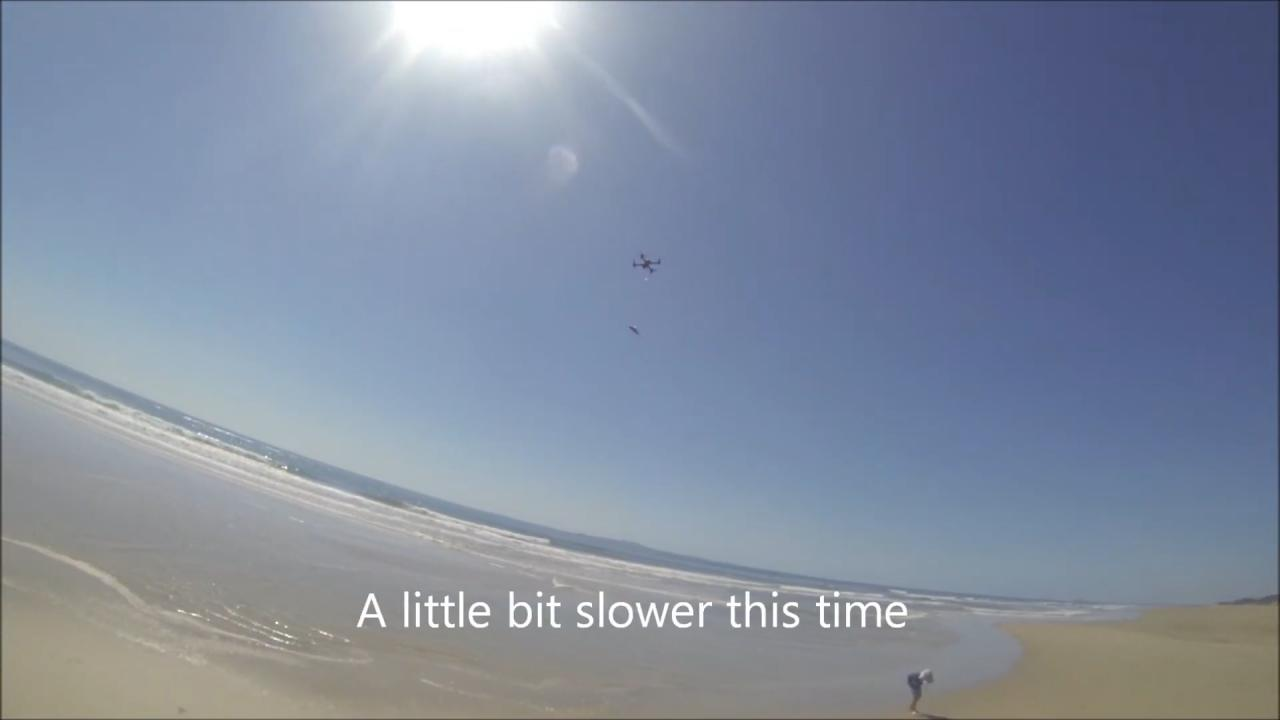Drone: (625, 246, 670, 284)
